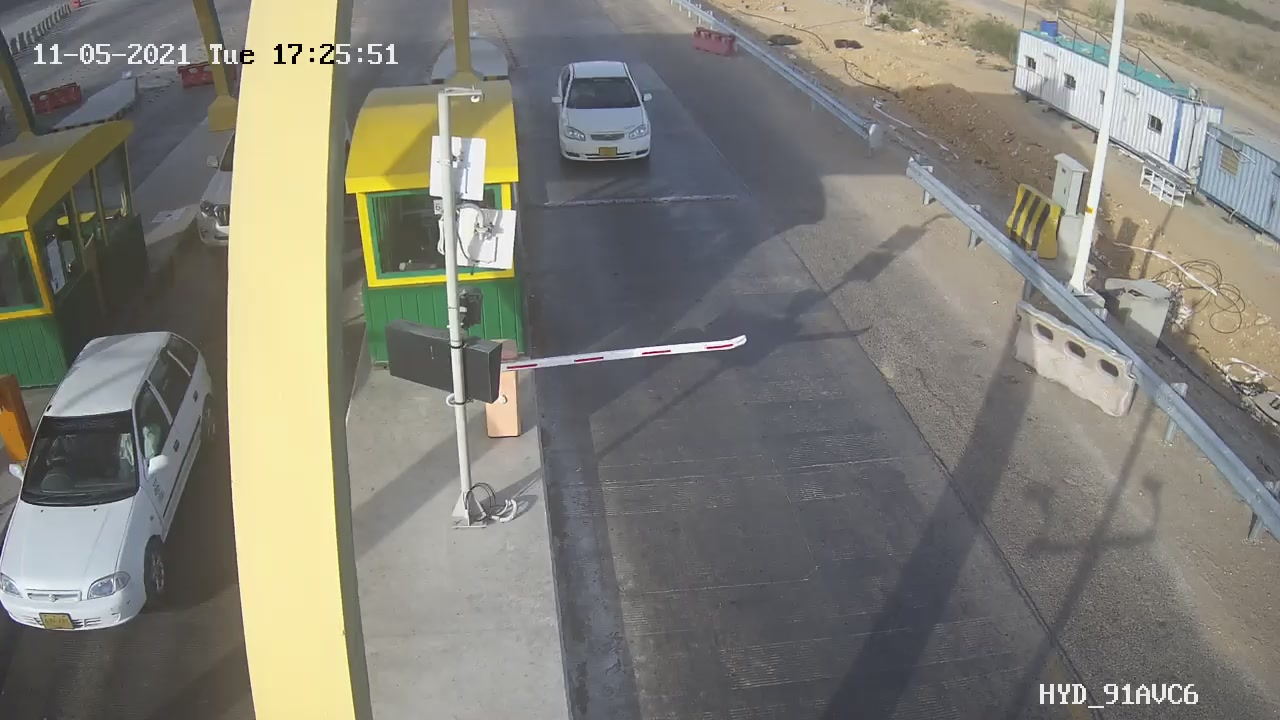F1: (537, 49, 670, 185)
